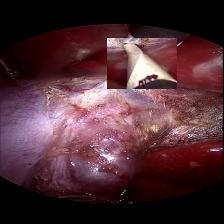Grasper: (2, 54, 26, 82)
Hook: (108, 37, 178, 88)
